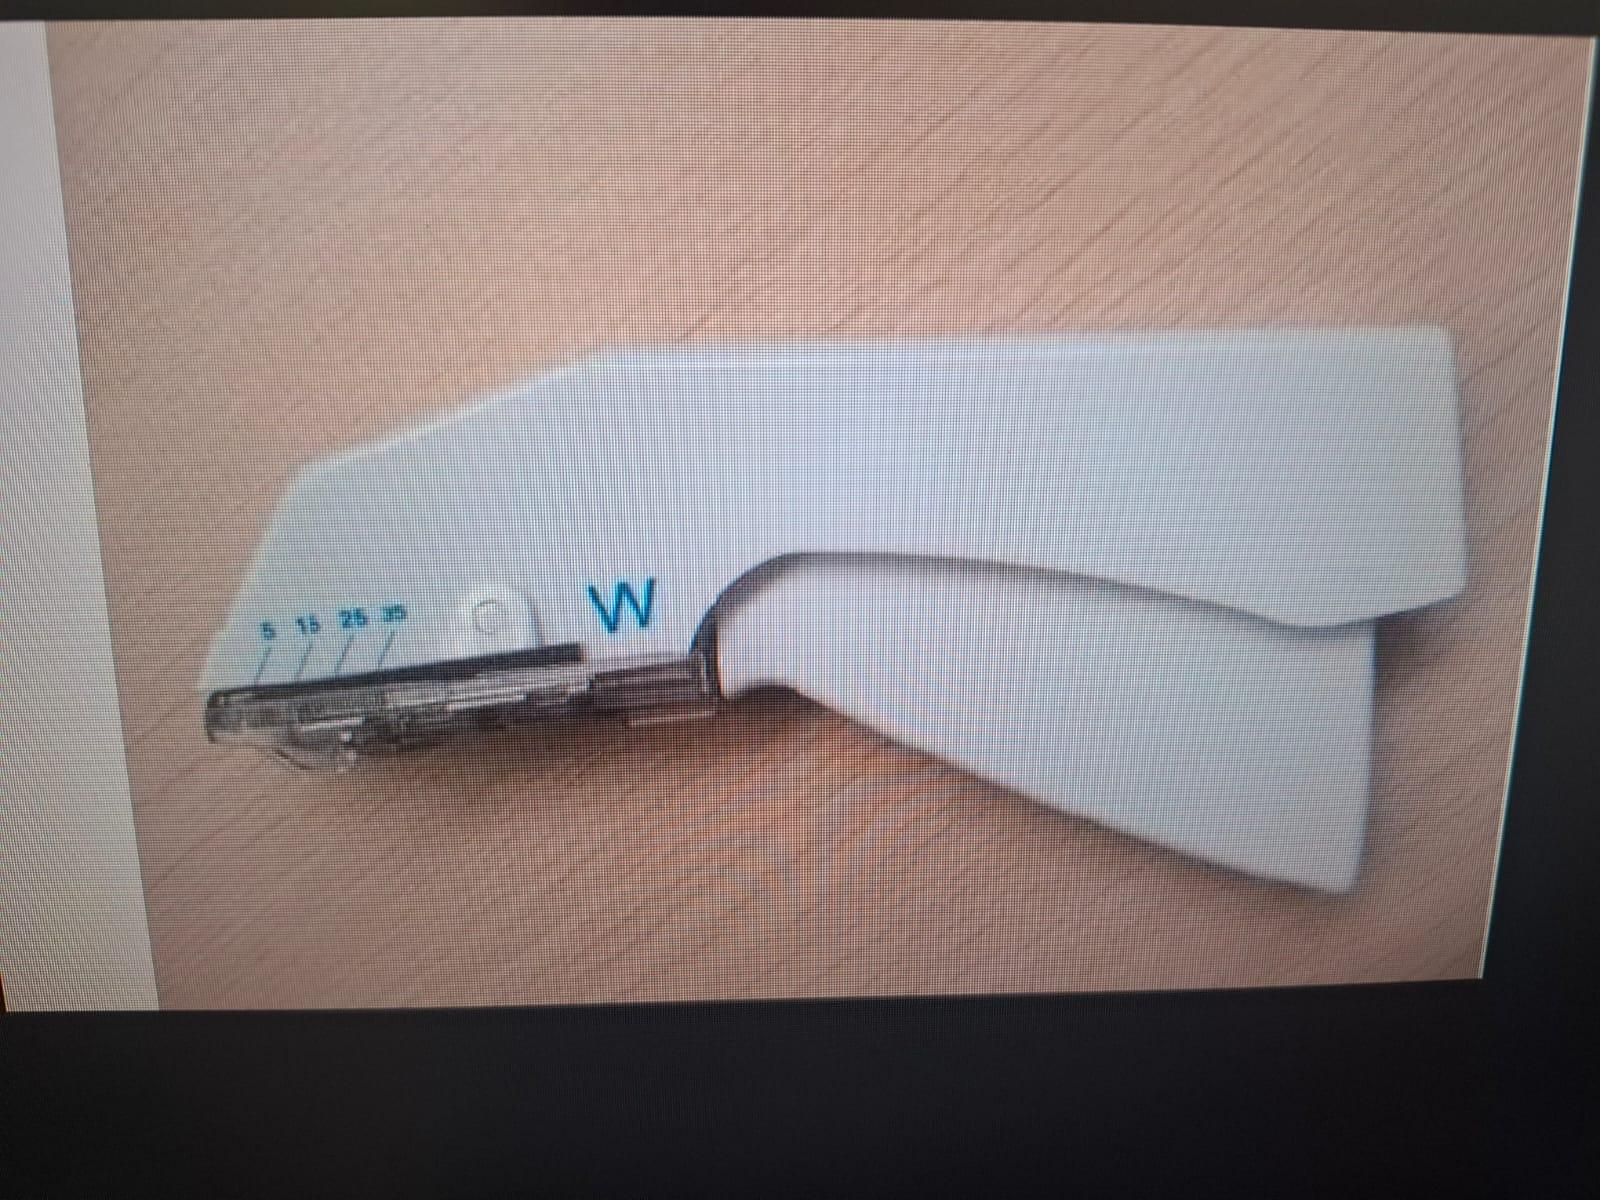Skin Stapler: (176, 313, 1487, 932)
